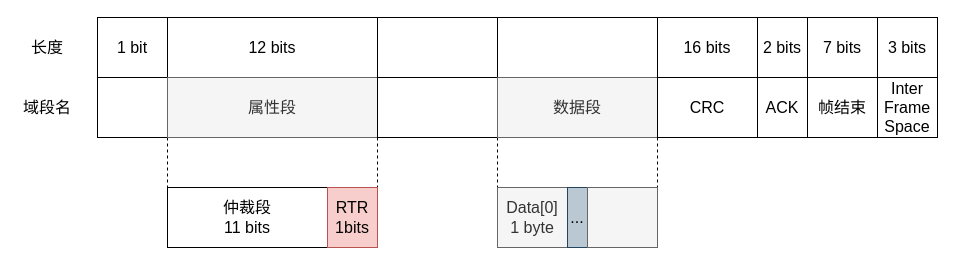
Some shapes in this 955 by 265 pixel diagram are drawn without their labels. Each missing label, with the centre of its shape:
"0 到 8 bytes" belongs at pixel 577 47.
"6 bits" belongs at pixel 437 47.
"Data[7] 1 byte" belongs at pixel 622 217.
"帧起始" belongs at pixel 132 107.
"控制段" belongs at pixel 437 107.
